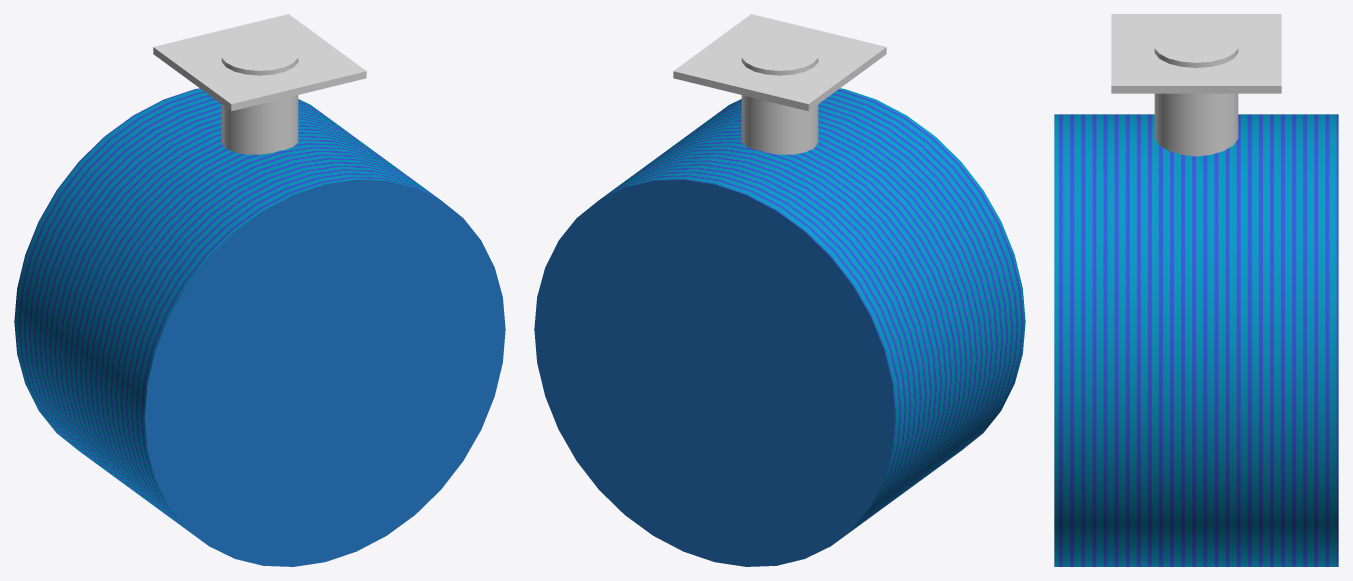
The model's file is sump0.fbx.
3 views of the same model, side by side, from view 1: azimuth 30°, elevation 25°; view 2: azimuth 150°, elevation 25°; view 3: azimuth 270°, elevation 25° (orthographic). The views are drawn at different scales.
Visible parts, largest first — view 1: main-box, manhole, stopper; view 2: main-box, manhole, stopper; view 3: main-box, manhole, stopper.
Part boxes in pixels (bbox=[...]): main-box: bbox=[14, 88, 505, 566]; manhole: bbox=[153, 14, 366, 111]; stopper: bbox=[221, 38, 298, 154]; main-box: bbox=[534, 88, 1025, 566]; manhole: bbox=[673, 14, 886, 111]; stopper: bbox=[741, 38, 818, 154]; main-box: bbox=[1054, 114, 1338, 566]; manhole: bbox=[1111, 14, 1281, 93]; stopper: bbox=[1154, 27, 1238, 156].
Bounding box in the file's own units: 6.3 × 7.67 × 3.94.
Materials: 1 (1 with a texture image).
